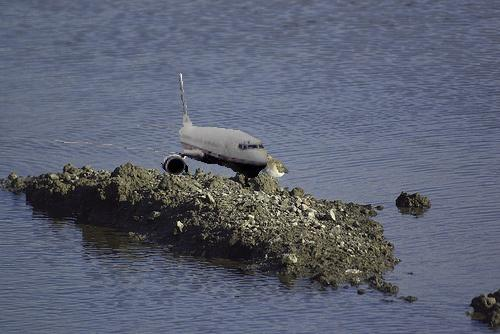tampered: (55, 74, 267, 187)
